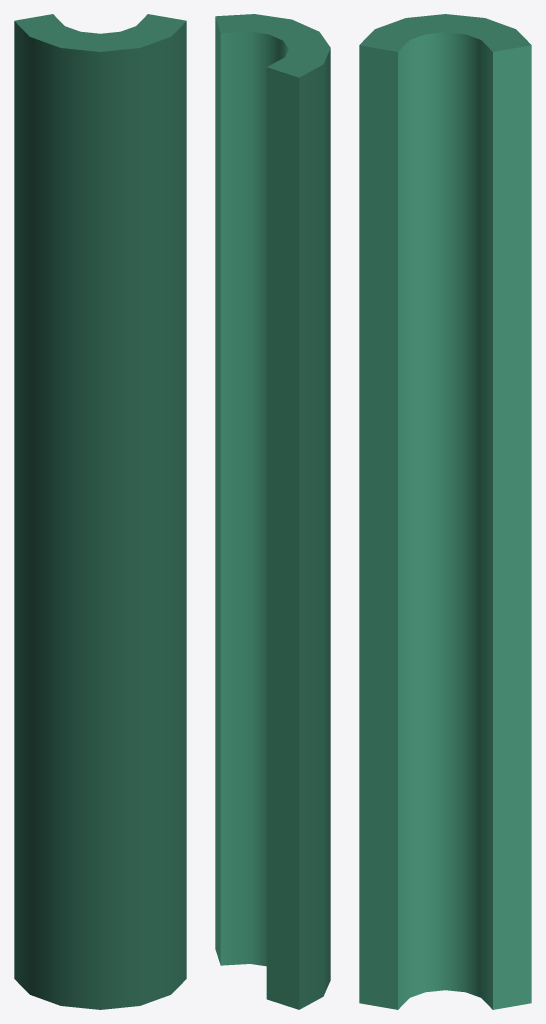
Rendered from celeryStick.fbx.
3 renders of one model, left to right at view 1: azimuth 90°, elevation 25°; view 2: azimuth 210°, elevation 25°; view 3: azimuth 270°, elevation 25°, orthographic. The views are drawn at different scales.
Visible parts, largest first — view 1: celeryStick; view 2: celeryStick; view 3: celeryStick.
Part boxes in pixels (x1,y1,x2,y2): celeryStick: [14, 14, 186, 1009]; celeryStick: [215, 14, 330, 1009]; celeryStick: [359, 14, 531, 1009].
Size of the model in its own units: 0.4596 by 5.4 by 0.882.
